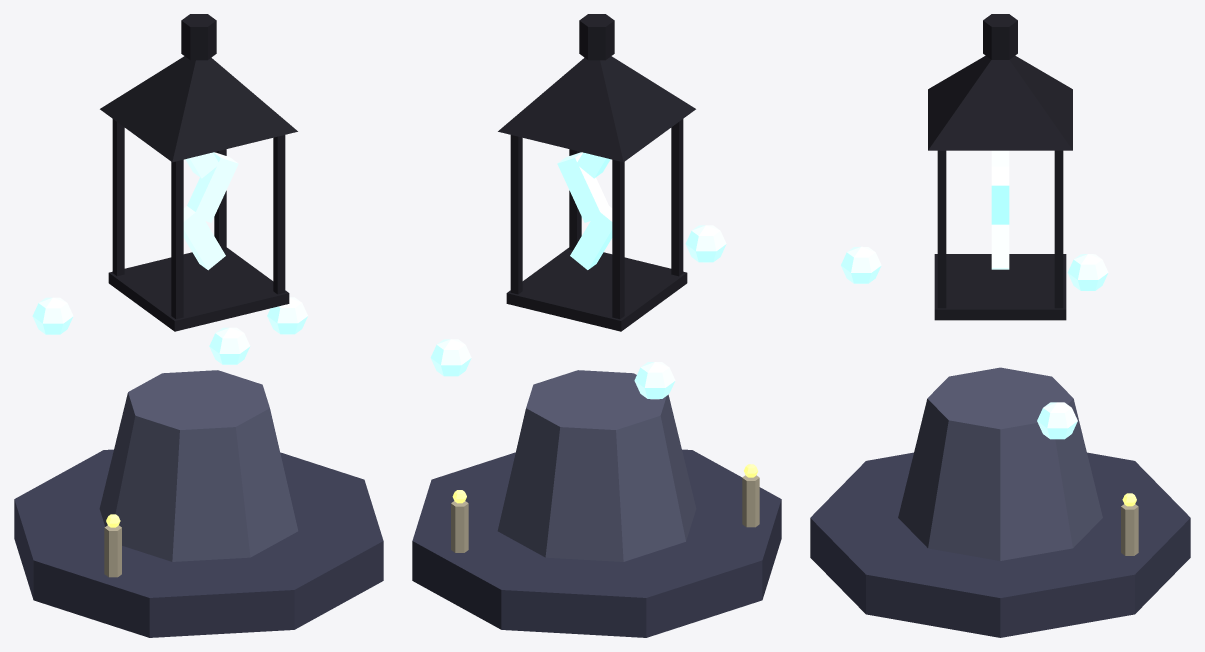
Rendered from lambda-wisp-lantern.glb.
3 views of the same model, side by side, from view 1: azimuth 30°, elevation 25°; view 2: azimuth 150°, elevation 25°; view 3: azimuth 270°, elevation 25° (orthographic).
Visible parts, largest first — view 1: cw_paint, cw_neon; view 2: cw_paint, cw_neon; view 3: cw_paint, cw_neon.
Boxes of the visible parts, box(x1,y1,x2,y2) form: cw_paint: box(14, 14, 383, 637); cw_neon: box(32, 152, 307, 364); cw_paint: box(412, 14, 781, 637); cw_neon: box(430, 152, 726, 399); cw_paint: box(810, 14, 1190, 637); cw_neon: box(841, 150, 1108, 439).
Size of the model in its own units: 2.6 by 4.05 by 2.6.
